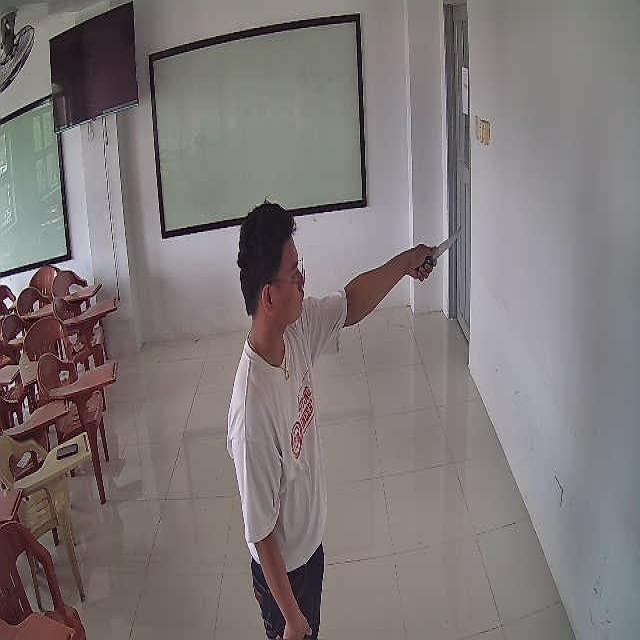knife: (421, 225, 462, 268)
